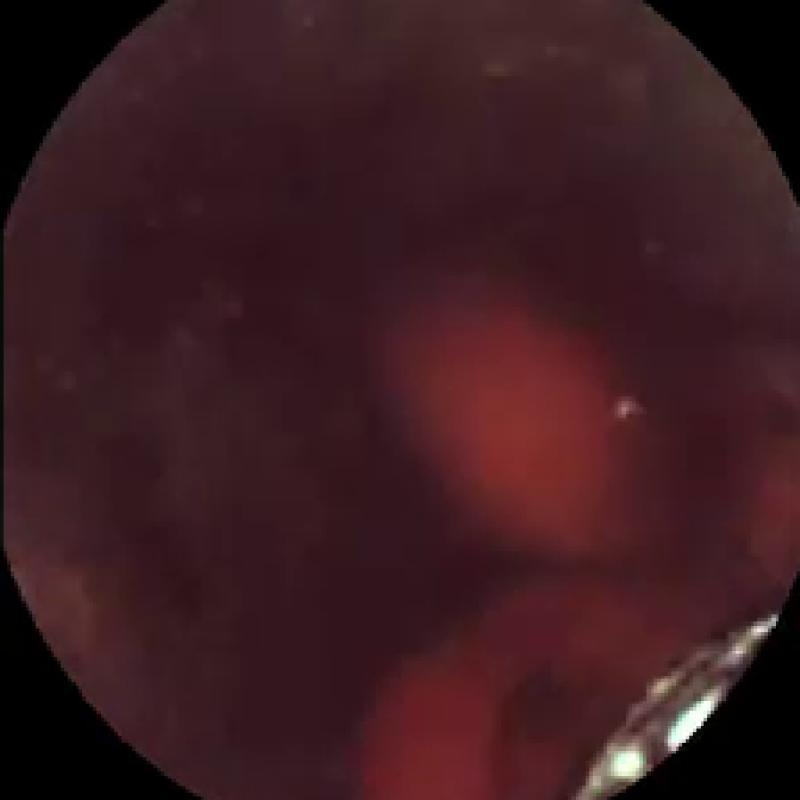bleeding: (361, 289, 668, 793)
